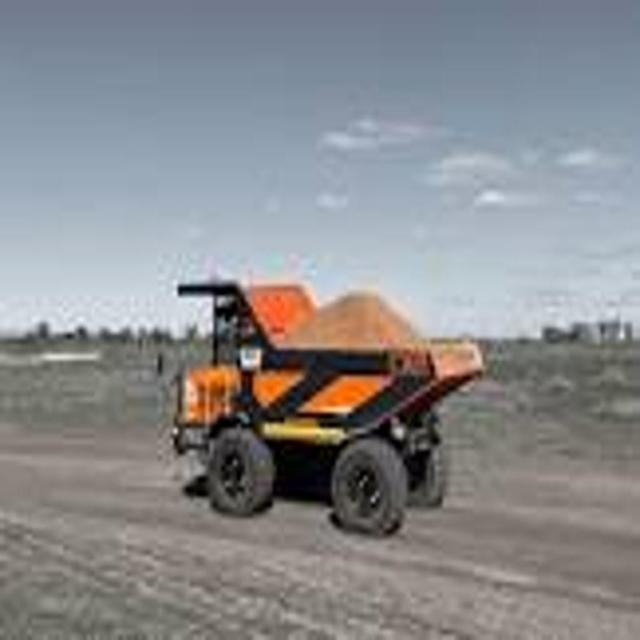dump_truck: (167, 242, 490, 554)
